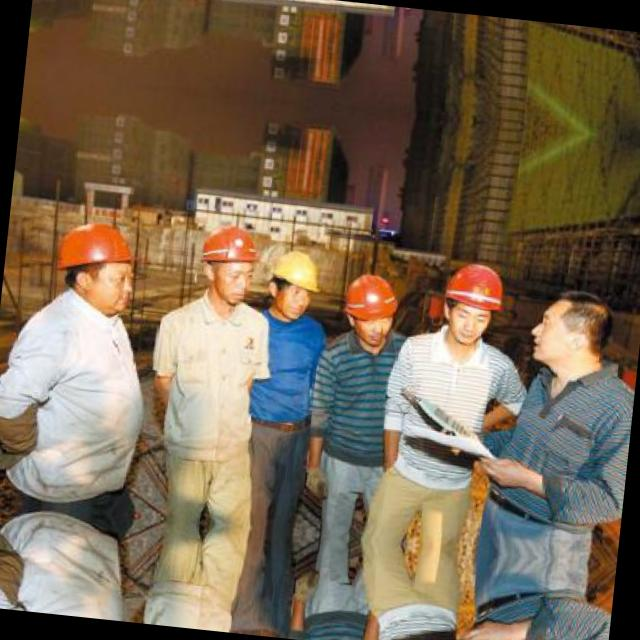helmet: (50, 218, 142, 314), (438, 259, 506, 345), (195, 220, 262, 306), (336, 269, 402, 347), (262, 244, 320, 318)
